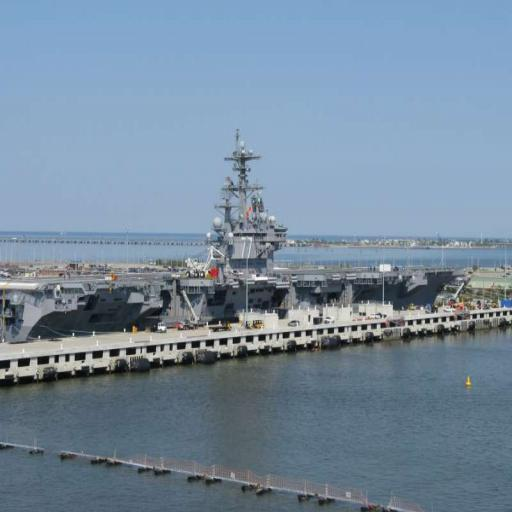Portanaves: (10, 110, 470, 350)
